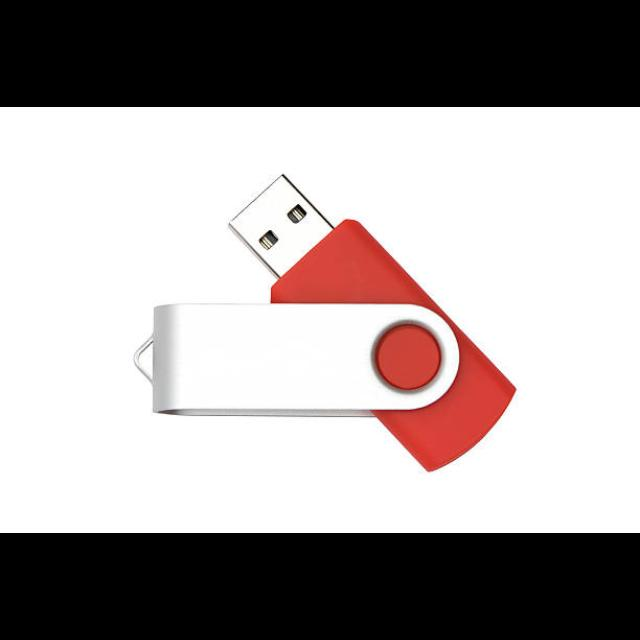USB-Flash-Drive: (152, 175, 517, 475)
